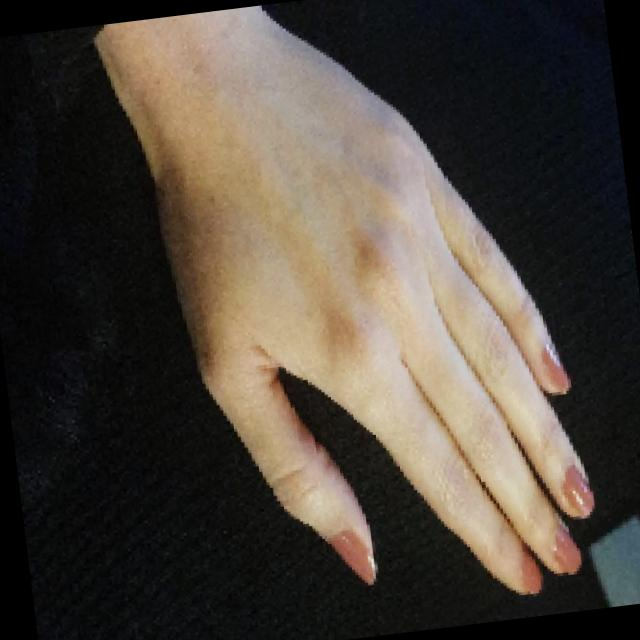Nail: (328, 529, 375, 586), (561, 465, 593, 516), (554, 527, 580, 574), (542, 348, 568, 391), (520, 543, 541, 592)
